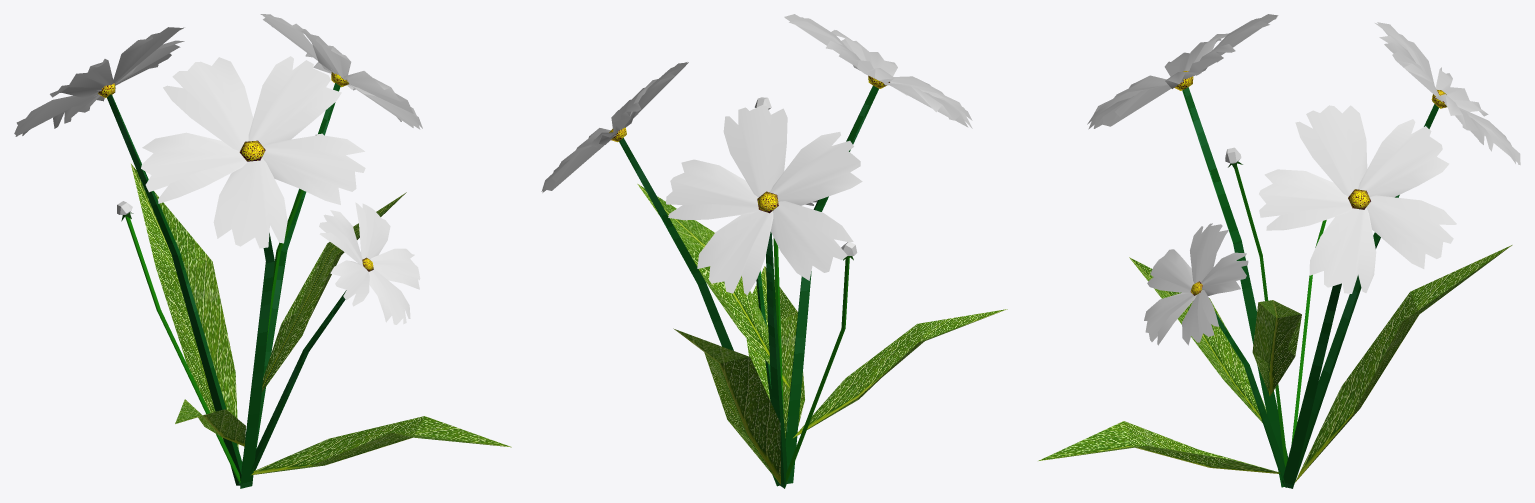
Rendered from flower_white.glb.
3 renders of one model, left to right at view 1: azimuth 30°, elevation 25°; view 2: azimuth 150°, elevation 25°; view 3: azimuth 270°, elevation 25°, orthographic.
Visible parts, largest first — view 1: Circle.008; view 2: Circle.008; view 3: Circle.008.
Boxes of the visible parts, x1=… form: Circle.008: x1=14, y1=14, x2=511, y2=488; Circle.008: x1=541, y1=14, x2=1007, y2=488; Circle.008: x1=1038, y1=14, x2=1520, y2=488.
Bounding box in the file's own units: 1.44 × 1.77 × 1.74.
Materials: 6 (3 with a texture image).
